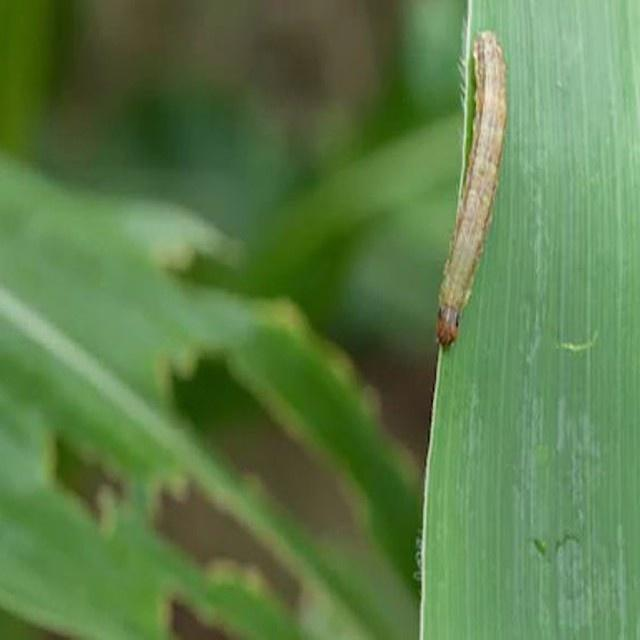yellow-stem-borer-larva: (429, 13, 541, 393)
